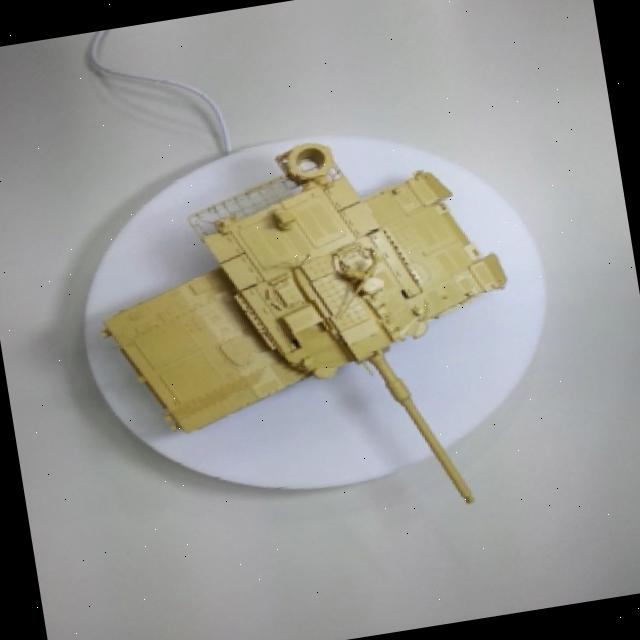korea tank: (84, 114, 576, 598)
